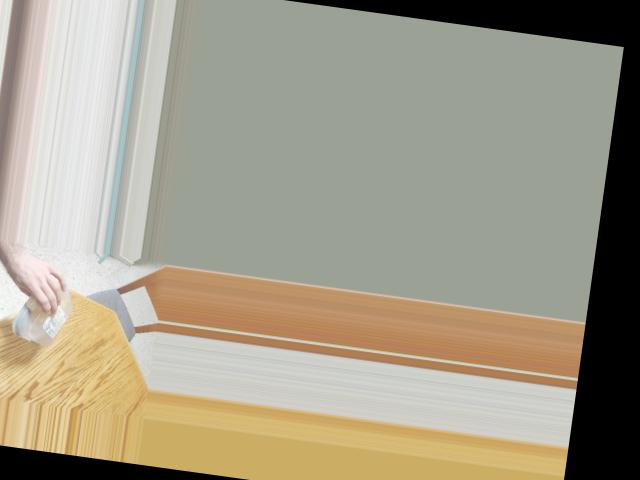cheese: (16, 281, 66, 345)
